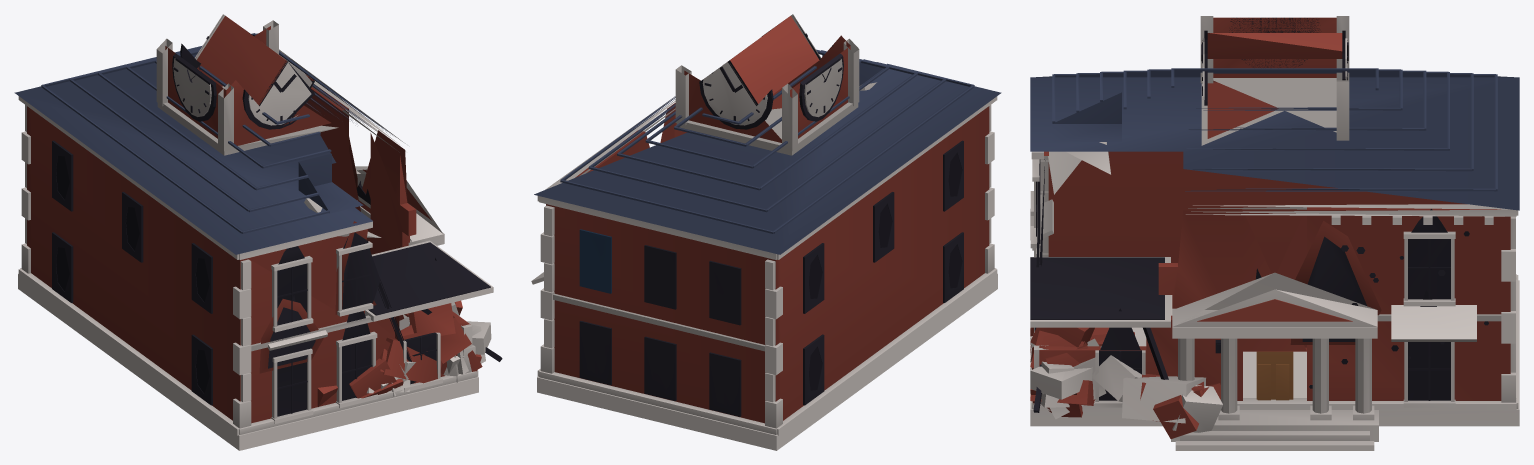
3 views of the same model, side by side, from view 1: azimuth 30°, elevation 25°; view 2: azimuth 150°, elevation 25°; view 3: azimuth 270°, elevation 25° (orthographic). The views are drawn at different scales.
Visible parts, largest first — view 1: body_pal_brick, body_pal_picketWhite, roof_pal_denim, body_pal_uiDark; view 2: body_pal_brick, roof_pal_denim, body_pal_picketWhite, body_pal_uiDark, body_pal_blueTrim; view 3: body_pal_brick, body_pal_picketWhite, roof_pal_denim, body_pal_uiDark, door_front_pal_woodWarm.
Boxes of the visible parts, box(x1,y1,x2,y2) form: body_pal_brick: box(27, 16, 482, 423); body_pal_picketWhite: box(18, 14, 493, 450); roof_pal_denim: box(14, 33, 392, 254); body_pal_uiDark: box(52, 15, 502, 416); body_pal_brick: box(546, 16, 989, 423); roof_pal_denim: box(534, 49, 1001, 254); body_pal_picketWhite: box(531, 14, 997, 450); body_pal_uiDark: box(579, 16, 963, 416); body_pal_blueTrim: box(579, 229, 611, 293); body_pal_brick: box(1030, 17, 1510, 438); body_pal_picketWhite: box(1030, 16, 1519, 450); roof_pal_denim: box(1030, 68, 1519, 210); body_pal_uiDark: box(1030, 17, 1488, 412); door_front_pal_woodWarm: box(1256, 351, 1293, 400).
Bounding box in the file's own units: 12.05 × 12 × 16.
